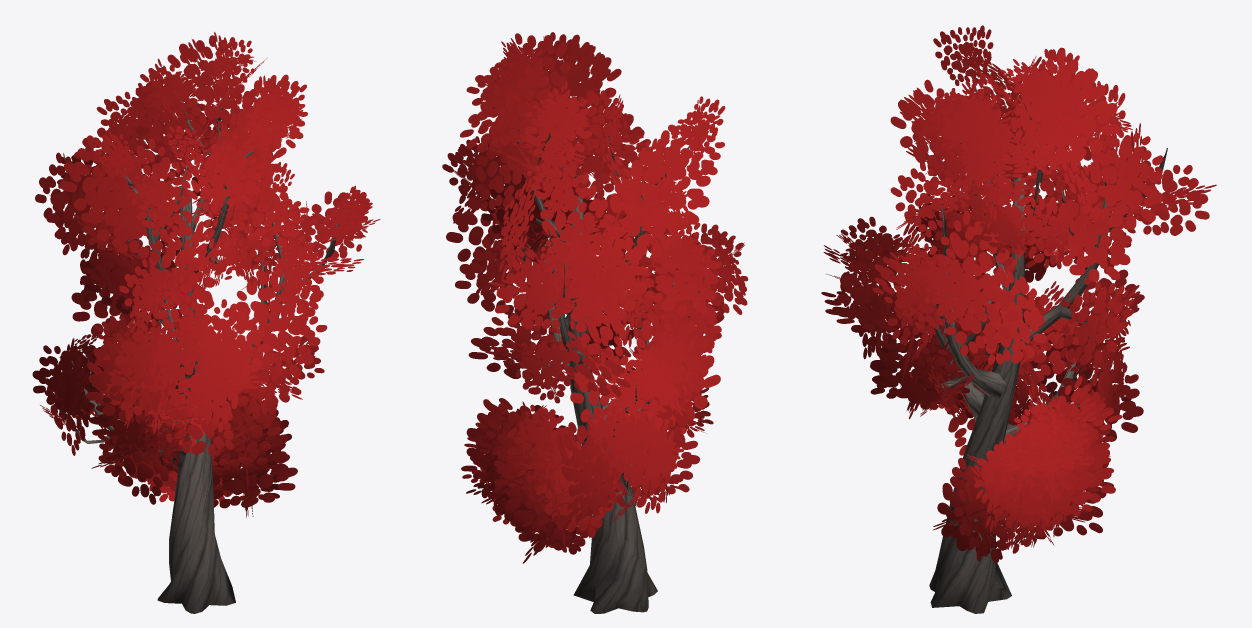
File: twisted_tree_free_model_b_b_lo.glb
3 views of the same model, side by side, from view 1: azimuth 30°, elevation 25°; view 2: azimuth 150°, elevation 25°; view 3: azimuth 270°, elevation 25° (orthographic). The views are drawn at different scales.
Visible parts, largest first — view 1: TwistedTree_4; view 2: TwistedTree_4; view 3: TwistedTree_4.
Part boxes in pixels (x1,y1,x2,y2): TwistedTree_4: (32,32,380,613); TwistedTree_4: (442,32,748,613); TwistedTree_4: (821,25,1216,613).
Size of the model in its own units: 11.46 by 19.2 by 13.16.
2 materials, 2 textured.
